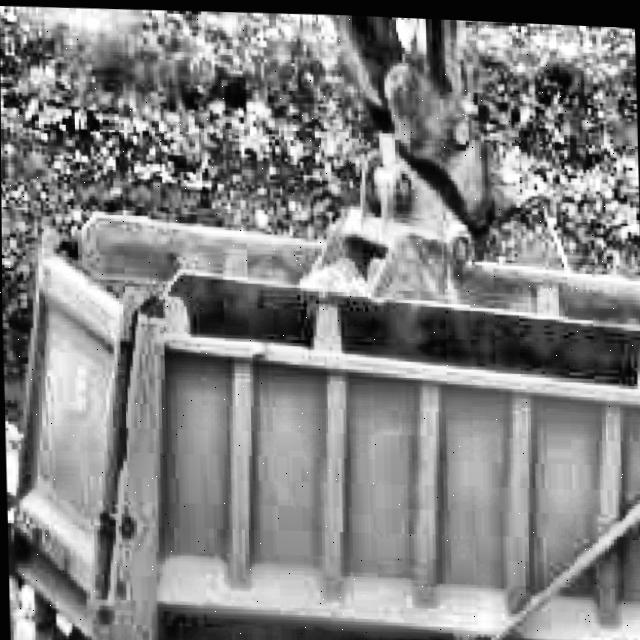dump_truck: (1, 188, 640, 640)
